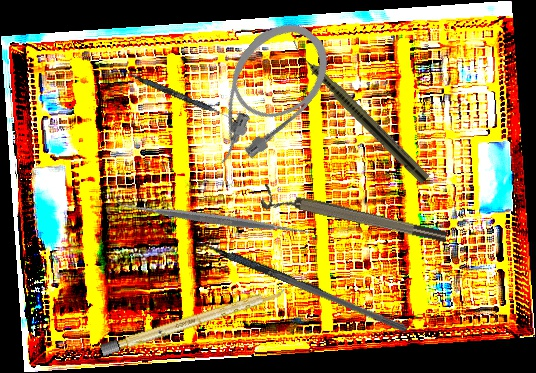Cannula: (180, 7, 345, 182)
Fixation Ring: (259, 182, 449, 254)
Handpiece: (285, 38, 432, 185)
Pusher: (247, 257, 409, 334)
Scalpel Handle: (99, 285, 287, 357)
Spatula Surgical: (113, 117, 316, 320), (190, 237, 365, 313), (116, 67, 241, 124)
